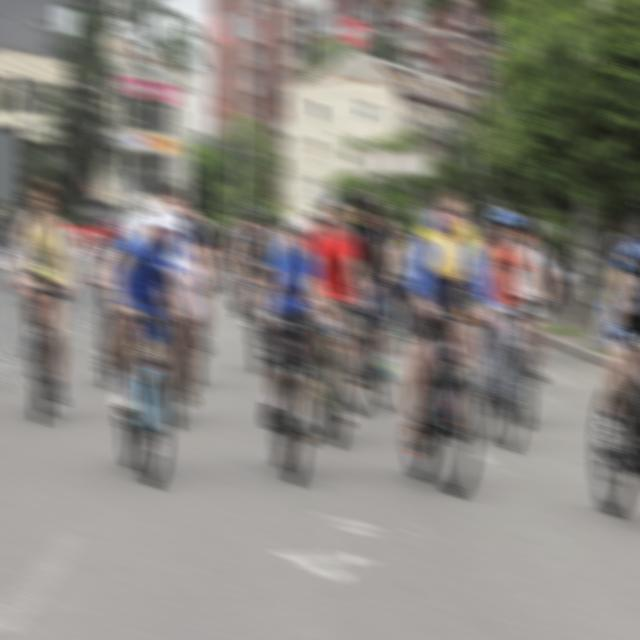Without Helmet: (432, 184, 470, 238)
